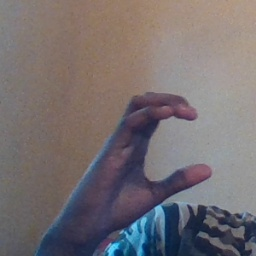C: (105, 88, 215, 200)
